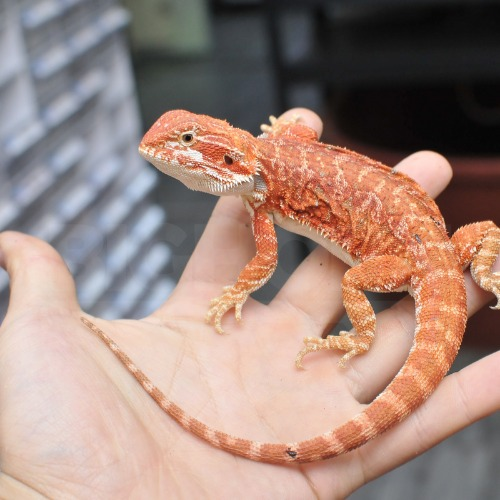bearded: (81, 106, 500, 469)
